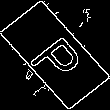P_NE: (22, 25, 88, 85)
